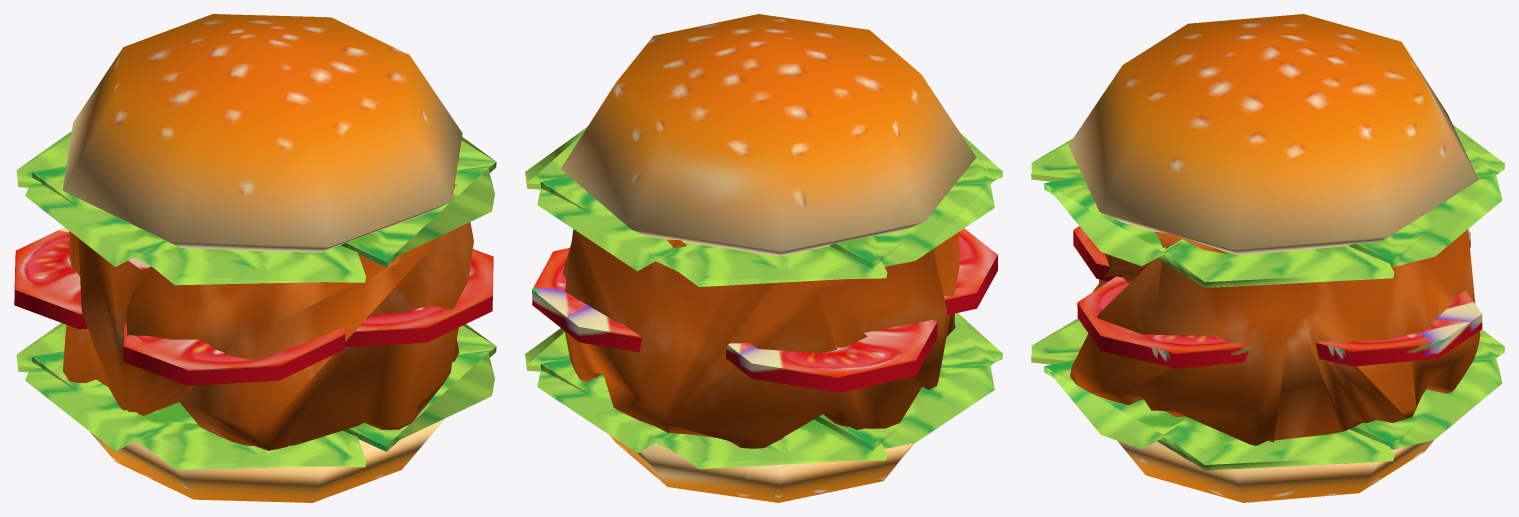
File: burger  low.fbx
3 renders of one model, left to right at view 1: azimuth 30°, elevation 25°; view 2: azimuth 150°, elevation 25°; view 3: azimuth 270°, elevation 25°, orthographic.
Visible parts, largest first — view 1: Cube.004, Cube.005, Cube.006, Circle.011, Circle.014, Circle.013; view 2: Cube.004, Cube.005, Cube.006, Circle.014, Circle.012, Circle.011; view 3: Cube.004, Cube.005, Cube.006, Circle.013, Circle.012, Circle.011.
Boxes of the visible parts, x1,y1,x2,y2 form: Cube.004: [62, 14, 462, 502]; Cube.005: [63, 184, 473, 450]; Cube.006: [16, 131, 496, 469]; Circle.011: [123, 324, 345, 385]; Circle.014: [14, 227, 150, 329]; Circle.013: [345, 249, 493, 347]; Cube.004: [561, 14, 976, 502]; Cube.005: [562, 229, 959, 448]; Cube.006: [525, 127, 1002, 469]; Circle.014: [725, 319, 937, 392]; Circle.012: [532, 248, 641, 352]; Circle.011: [944, 228, 997, 315]; Cube.004: [1068, 14, 1478, 502]; Cube.005: [1070, 229, 1480, 445]; Cube.006: [1031, 125, 1504, 470]; Circle.013: [1077, 276, 1250, 368]; Circle.012: [1316, 290, 1482, 366]; Circle.011: [1073, 226, 1122, 281].
Size of the model in its own units: 4.46 by 4.34 by 4.64.
